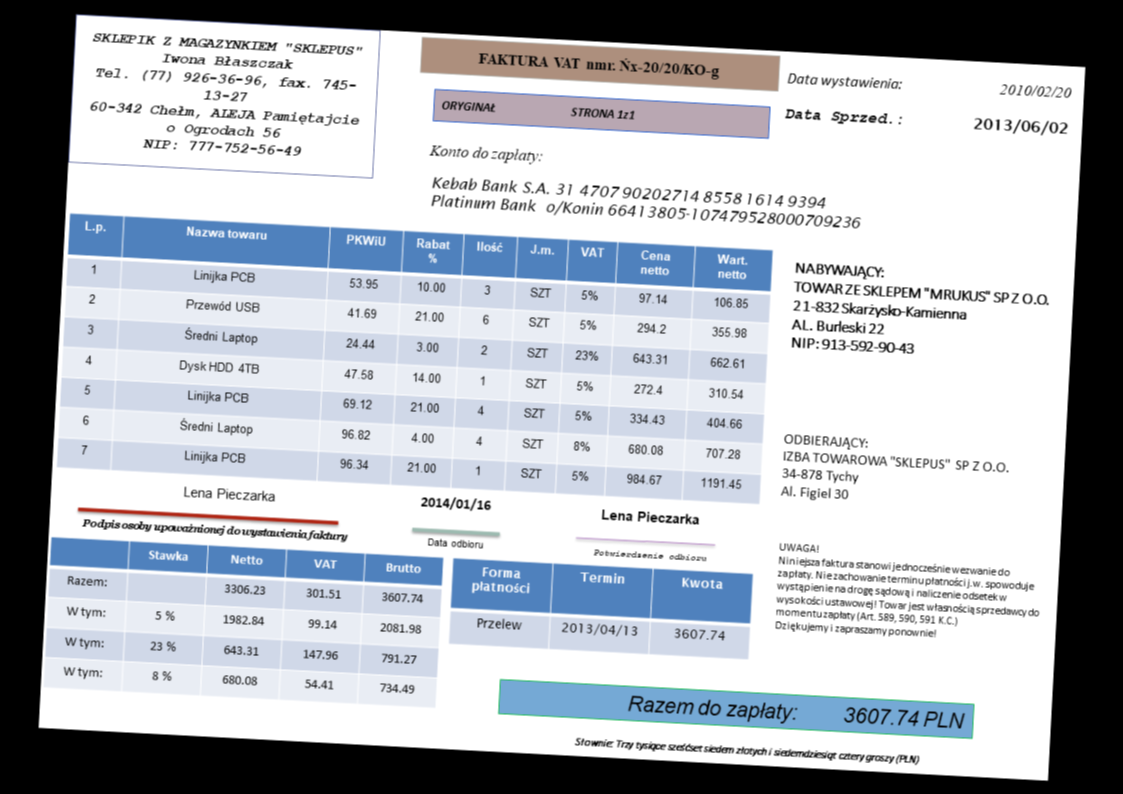Table: (54, 211, 774, 505), (41, 535, 444, 709), (447, 557, 755, 660)
TextBox: (84, 25, 366, 162), (770, 539, 1042, 647), (787, 259, 1053, 366), (429, 172, 865, 232), (777, 429, 1011, 511), (622, 691, 967, 733), (572, 732, 919, 767), (475, 47, 722, 82), (79, 514, 350, 545), (438, 96, 638, 123), (427, 140, 544, 167), (784, 104, 904, 129), (785, 69, 903, 91), (597, 504, 700, 528), (971, 114, 1069, 136), (180, 482, 277, 504), (591, 545, 707, 563), (417, 493, 494, 513), (997, 80, 1072, 99), (425, 534, 485, 552)
